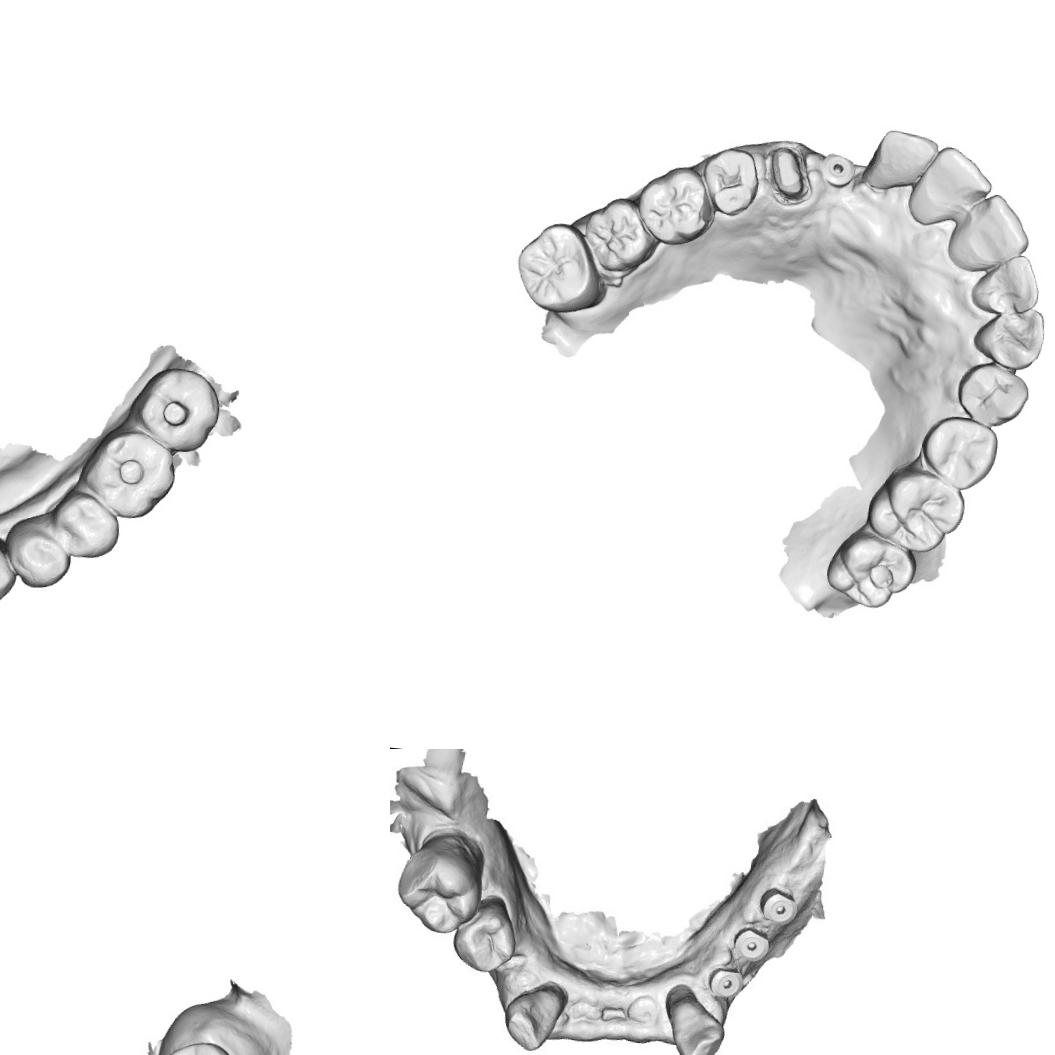canine: (970, 301, 1048, 373), (499, 978, 571, 1054), (660, 979, 727, 1055), (0, 548, 19, 608)
crown: (762, 134, 812, 202)
implant: (752, 883, 800, 925), (732, 924, 776, 967), (820, 148, 858, 195), (704, 966, 747, 996)
incisor: (858, 123, 940, 198), (920, 141, 998, 216), (958, 190, 1038, 262), (983, 248, 1044, 316)
molar: (76, 424, 182, 525), (861, 463, 970, 561), (510, 216, 608, 318), (392, 839, 484, 943), (128, 362, 224, 458), (821, 525, 920, 615), (632, 162, 716, 250), (578, 194, 662, 277), (152, 1036, 244, 1055)
premolar: (916, 411, 1000, 492), (448, 894, 522, 978), (696, 142, 769, 225), (47, 488, 125, 564), (953, 360, 1033, 432), (4, 525, 74, 593)
